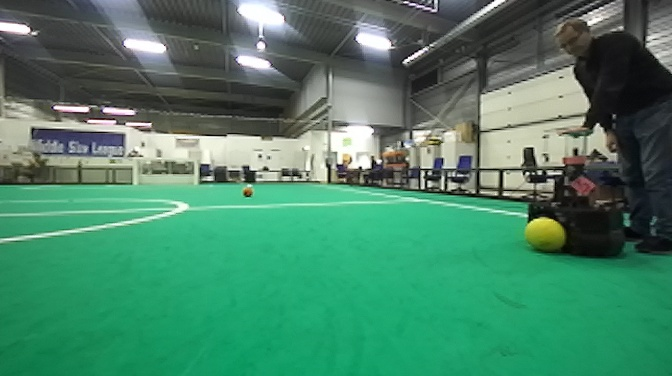ball: (523, 214, 568, 257), (242, 185, 255, 200)
goal: (132, 159, 199, 189)
goalpost: (131, 159, 137, 188), (193, 159, 198, 187)
human: (548, 13, 672, 259)
robot: (524, 128, 630, 262)
